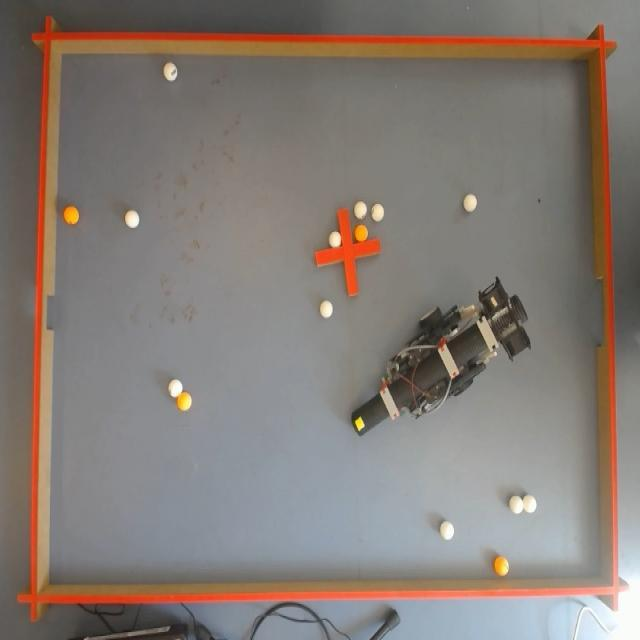orange: (494, 554, 512, 575), (176, 389, 190, 412), (62, 208, 78, 224), (355, 226, 367, 243)
robot: (347, 291, 535, 443)
white: (163, 61, 177, 83), (441, 518, 455, 540), (522, 494, 536, 514), (319, 298, 332, 318), (167, 378, 180, 398), (464, 194, 478, 212), (125, 211, 138, 230), (510, 496, 522, 514), (353, 200, 365, 218), (372, 203, 383, 222), (331, 231, 342, 249)
